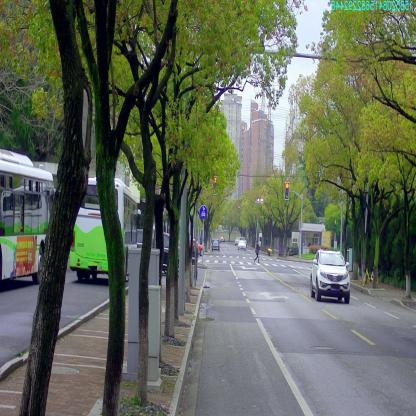traffic-light: (213, 177, 217, 194), (285, 182, 289, 198)
